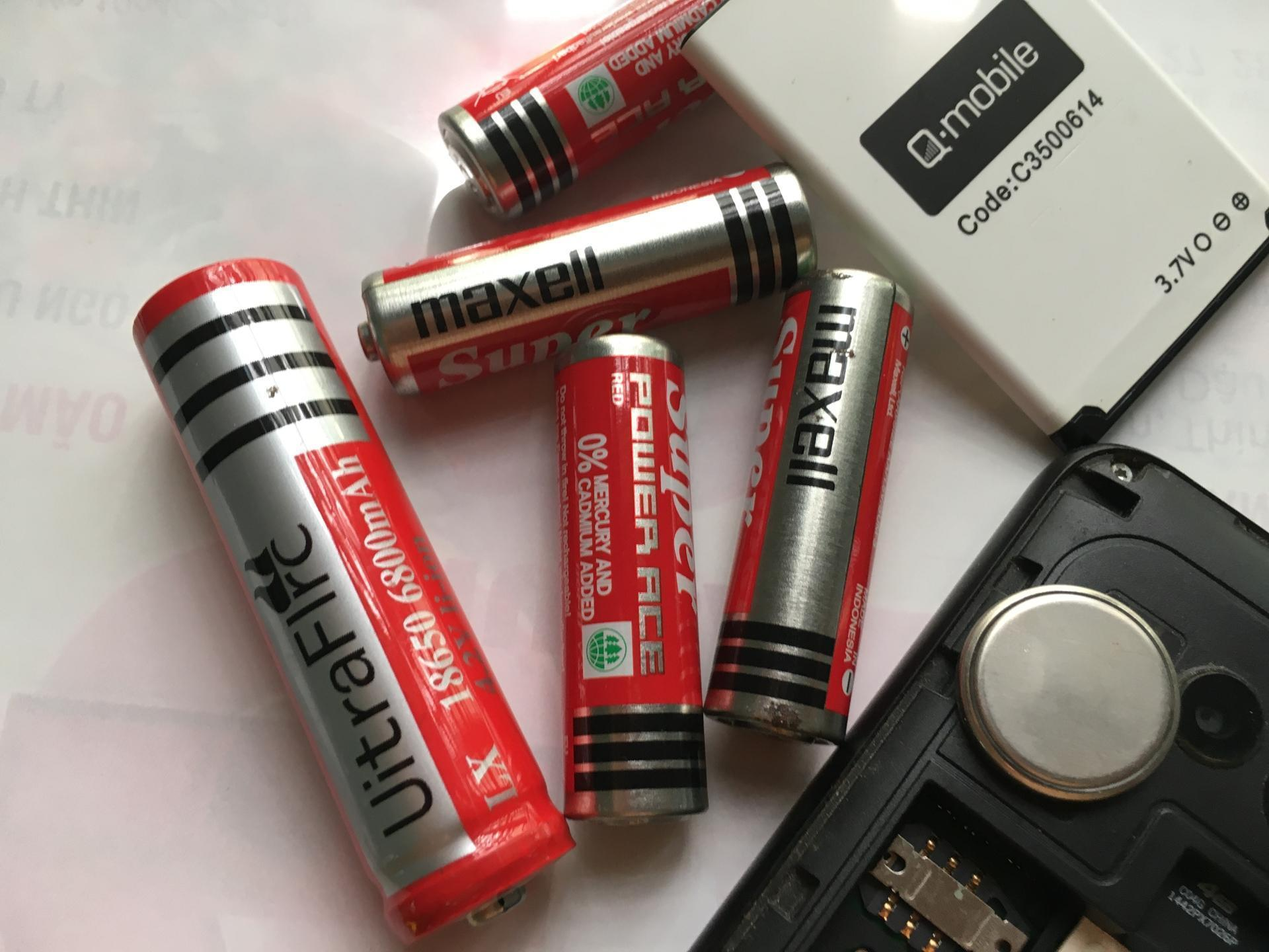AA: (342, 153, 828, 402), (699, 255, 926, 755), (547, 330, 716, 827)
COIN: (956, 582, 1185, 806)
